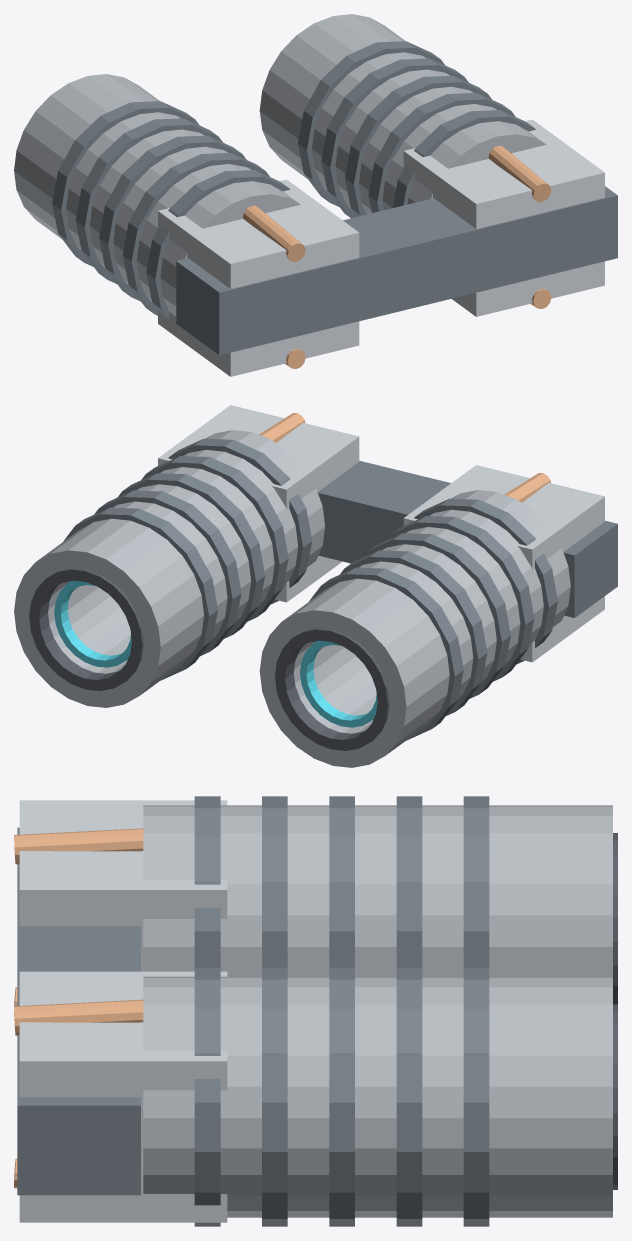
Rendered from engine_titan.glb.
3 renders of one model, top to bottom at view 1: azimuth 30°, elevation 25°; view 2: azimuth 150°, elevation 25°; view 3: azimuth 270°, elevation 25°, orthographic. The views are drawn at different scales.
Parts seen in each view (by area): view 1: CASSETTE_CORE_CRADLE, MAIN_-1_HOLLOW_BELL, MAIN_1_HOLLOW_BELL, MAIN_-1_ENGINE_BLOCK, MAIN_1_ENGINE_BLOCK, MAIN_-1_HEAT_RING_3, MAIN_1_HEAT_RING_4, MAIN_-1_HEAT_RING_4, MAIN_-1_HEAT_RING_2, MAIN_-1_HEAT_RING_1, MAIN_1_HEAT_RING_3, MAIN_1_HEAT_RING_2 (+5 smaller); view 2: MAIN_-1_HOLLOW_BELL, MAIN_1_HOLLOW_BELL, CASSETTE_CORE_CRADLE, MAIN_-1_ENGINE_BLOCK, MAIN_1_ENGINE_BLOCK, MAIN_-1_INNER_RIM, MAIN_1_INNER_RIM, MAIN_-1_HEAT_RING_4, MAIN_1_HEAT_RING_4, MAIN_-1_HEAT_RING_2, MAIN_1_HEAT_RING_1, MAIN_1_HEAT_RING_3 (+9 smaller); view 3: MAIN_1_HOLLOW_BELL, MAIN_-1_HOLLOW_BELL, MAIN_1_ENGINE_BLOCK, CASSETTE_CORE_CRADLE, MAIN_-1_ENGINE_BLOCK, MAIN_1_HEAT_RING_3, MAIN_1_HEAT_RING_4, MAIN_1_HEAT_RING_1, MAIN_1_HEAT_RING_2, MAIN_1_HEAT_RING_0, MAIN_-1_HEAT_RING_3, MAIN_-1_HEAT_RING_4 (+7 smaller).
Part boxes in pixels (x1,y1,x2,y2): CASSETTE_CORE_CRADLE: [176, 186, 617, 355]; MAIN_-1_HOLLOW_BELL: [14, 74, 300, 316]; MAIN_1_HOLLOW_BELL: [259, 14, 546, 214]; MAIN_-1_ENGINE_BLOCK: [158, 179, 359, 376]; MAIN_1_ENGINE_BLOCK: [403, 119, 604, 316]; MAIN_-1_HEAT_RING_3: [75, 118, 222, 283]; MAIN_1_HEAT_RING_4: [298, 41, 444, 206]; MAIN_-1_HEAT_RING_4: [52, 101, 199, 266]; MAIN_-1_HEAT_RING_2: [99, 135, 246, 301]; MAIN_-1_HEAT_RING_1: [122, 153, 269, 315]; MAIN_1_HEAT_RING_3: [321, 58, 468, 218]; MAIN_1_HEAT_RING_2: [345, 75, 491, 216]; MAIN_-1_HOLLOW_BELL: [259, 490, 570, 767]; MAIN_1_HOLLOW_BELL: [14, 430, 324, 707]; CASSETTE_CORE_CRADLE: [317, 460, 617, 617]; MAIN_-1_ENGINE_BLOCK: [403, 465, 604, 662]; MAIN_1_ENGINE_BLOCK: [158, 405, 359, 602]; MAIN_-1_INNER_RIM: [275, 628, 389, 750]; MAIN_1_INNER_RIM: [29, 568, 143, 690]; MAIN_-1_HEAT_RING_4: [309, 567, 463, 740]; MAIN_1_HEAT_RING_4: [63, 507, 217, 680]; MAIN_-1_HEAT_RING_2: [363, 533, 510, 698]; MAIN_1_HEAT_RING_1: [141, 456, 288, 621]; MAIN_1_HEAT_RING_3: [94, 490, 241, 656]; MAIN_1_HOLLOW_BELL: [143, 976, 612, 1217]; MAIN_-1_HOLLOW_BELL: [143, 805, 612, 976]; MAIN_1_ENGINE_BLOCK: [19, 971, 227, 1222]; CASSETTE_CORE_CRADLE: [17, 827, 140, 1195]; MAIN_-1_ENGINE_BLOCK: [19, 800, 227, 971]; MAIN_1_HEAT_RING_3: [396, 967, 422, 1226]; MAIN_1_HEAT_RING_4: [463, 967, 489, 1226]; MAIN_1_HEAT_RING_1: [262, 967, 287, 1226]; MAIN_1_HEAT_RING_2: [329, 967, 354, 1226]; MAIN_1_HEAT_RING_0: [194, 967, 220, 1226]; MAIN_-1_HEAT_RING_3: [396, 796, 422, 967]; MAIN_-1_HEAT_RING_4: [463, 796, 489, 967].
Bounding box in the file's own units: 1.34 × 0.5243 × 1.22.
